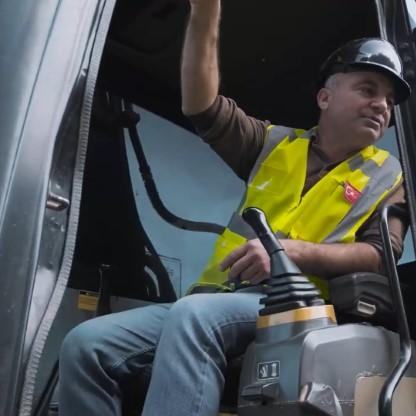helmet: (302, 33, 404, 151)
